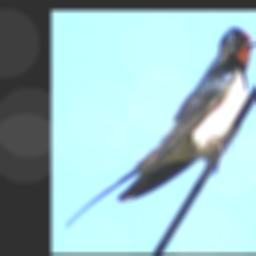Swallow: (63, 26, 256, 229)
